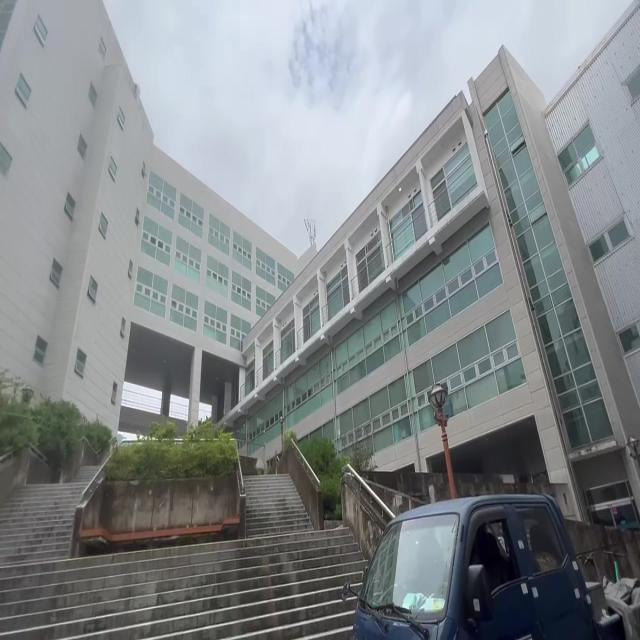building: (14, 44, 614, 440)
